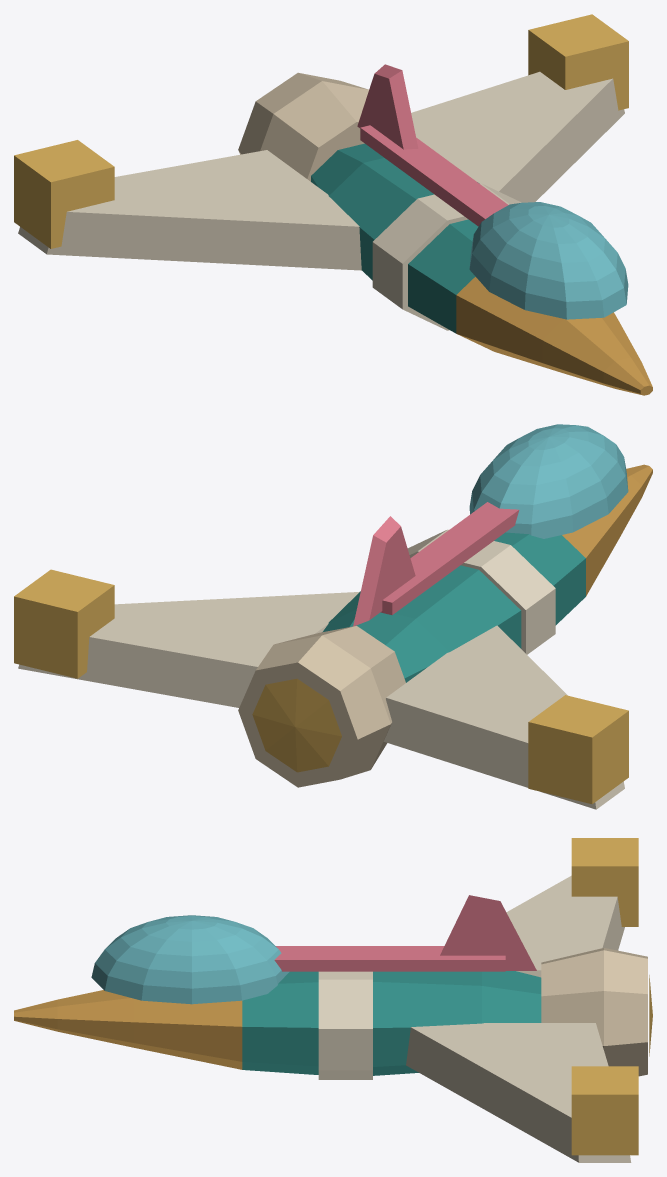
The model's file is courier.gltf.
The picture shows the model from 3 angles, top to bottom: view 1: azimuth 30°, elevation 25°; view 2: azimuth 150°, elevation 25°; view 3: azimuth 270°, elevation 25°; orthographic projection. The views are drawn at different scales.
Visible parts, largest first — view 1: wings, hull, canopy, engine, stripe, pennant; view 2: wings, hull, engine, canopy, stripe, pennant; view 3: hull, wings, canopy, engine, stripe, pennant.
Part boxes in pixels (bbox=[...]): wings: bbox=[14, 14, 628, 270]; hull: bbox=[311, 143, 652, 395]; canopy: bbox=[469, 202, 628, 319]; engine: bbox=[238, 72, 368, 181]; stripe: bbox=[360, 125, 508, 226]; pennant: bbox=[357, 64, 418, 149]; wings: bbox=[14, 569, 628, 809]; hull: bbox=[322, 464, 652, 682]; engine: bbox=[238, 626, 405, 787]; canopy: bbox=[469, 424, 628, 538]; stripe: bbox=[380, 502, 519, 614]; pennant: bbox=[353, 516, 415, 626]; hull: bbox=[14, 971, 541, 1079]; wings: bbox=[406, 838, 638, 1162]; canopy: bbox=[91, 915, 289, 1004]; engine: bbox=[541, 948, 652, 1076]; stripe: bbox=[274, 946, 505, 971]; pennant: bbox=[440, 895, 536, 970].
Bounding box in the file's own units: 2.9 × 0.995 × 3.05.
